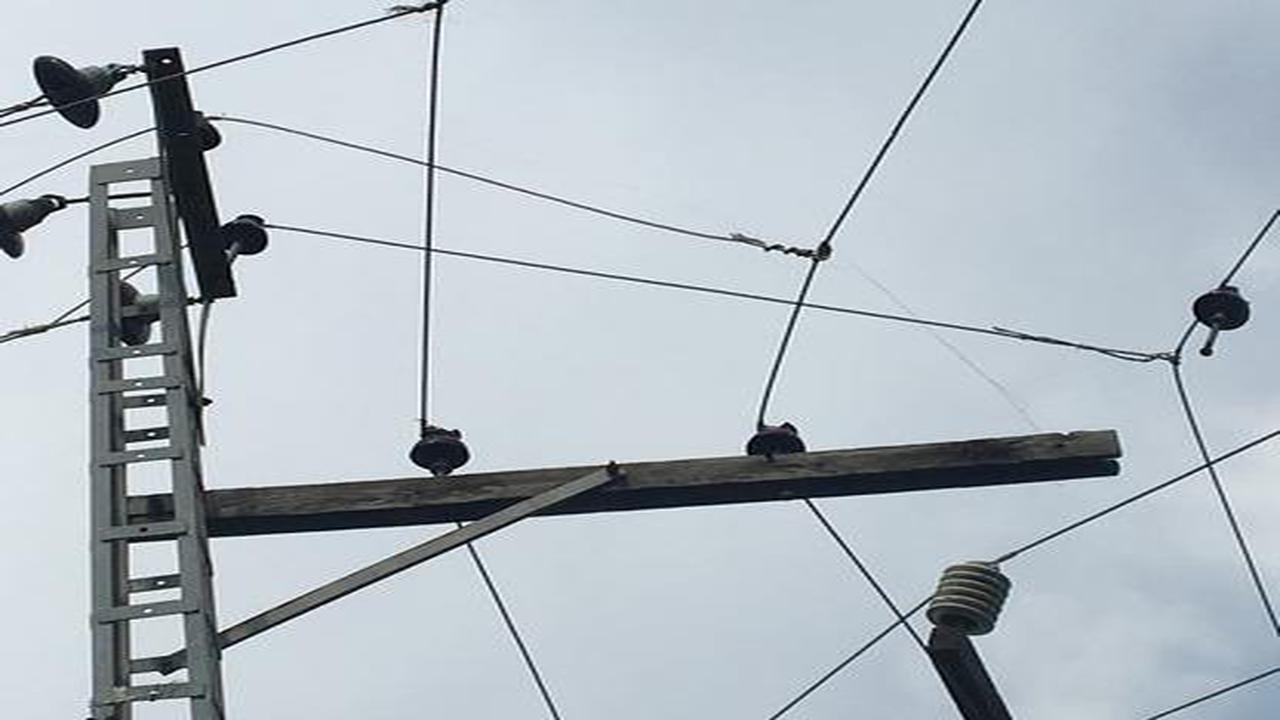defect_pin: (407, 422, 474, 471), (1191, 283, 1255, 331), (742, 419, 811, 460)
insulator_disc: (28, 52, 104, 133)
